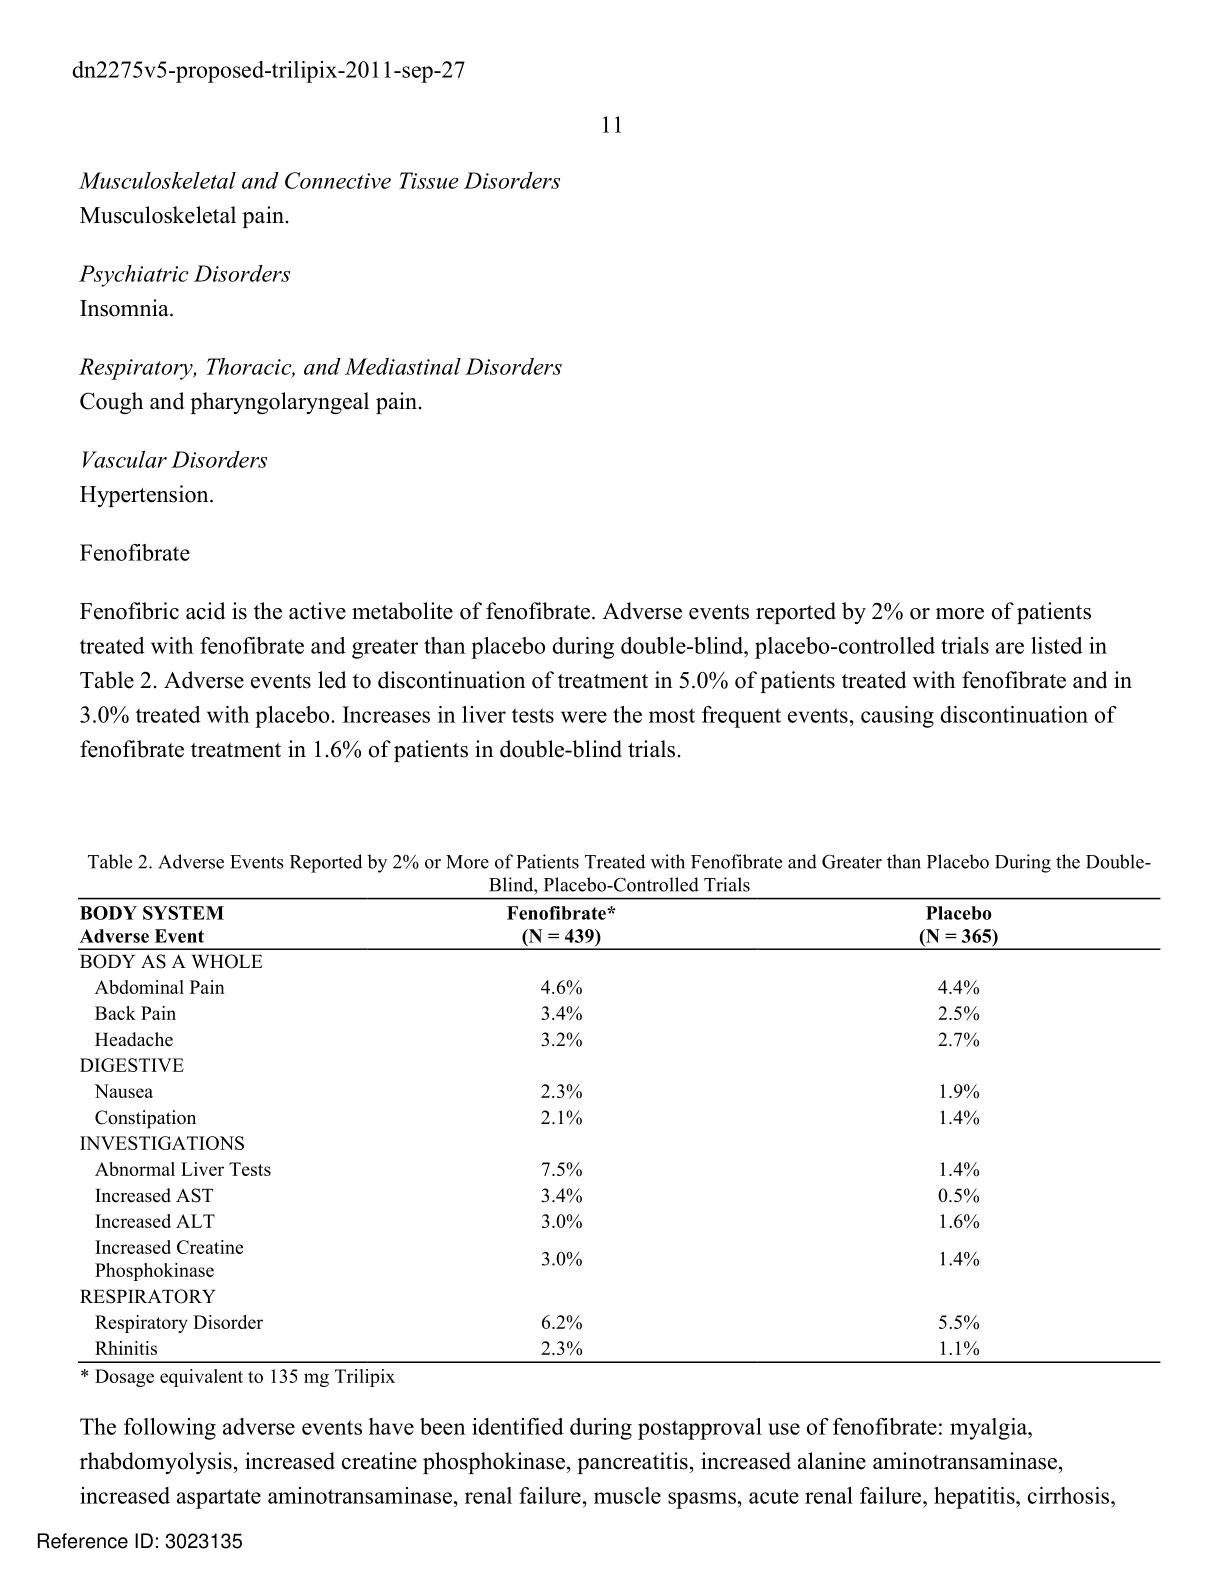partial_lined_merged_cells: (71, 896, 1165, 1364)
